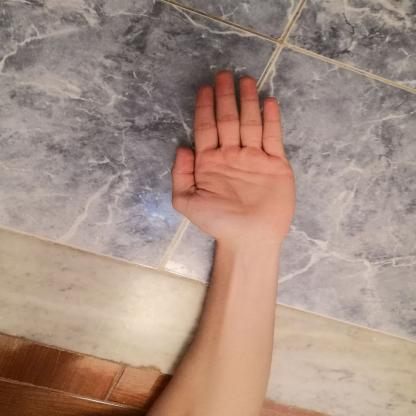SEEN: (159, 62, 303, 248)
